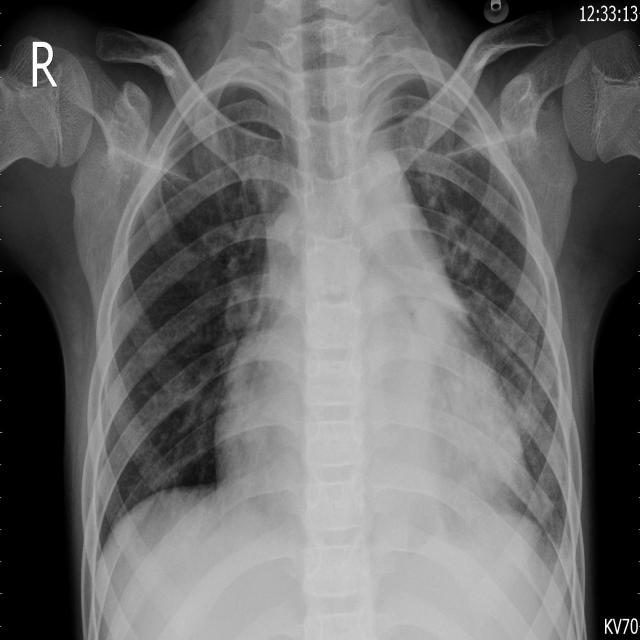no-pneumonia: (84, 42, 300, 562), (362, 51, 574, 544)
